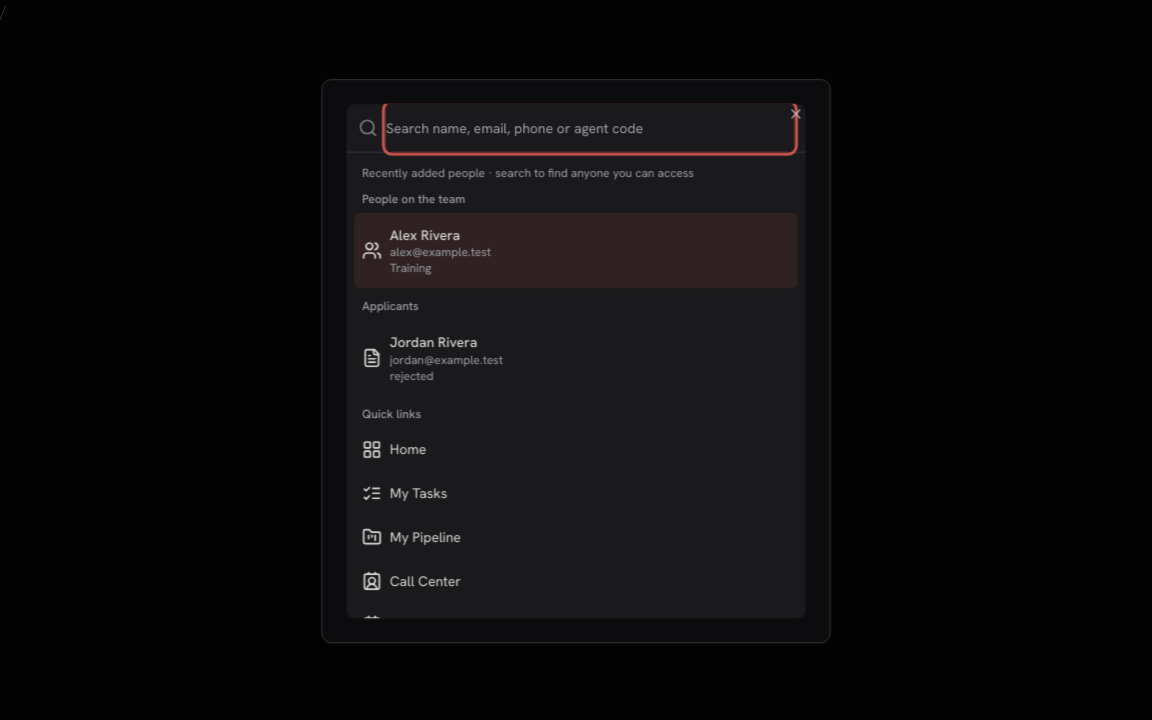
Shared people search › preserves applicant identity even for a closed application
Step 1. Click the text "Jordan Rivera" → (433, 340), box [389,332,477,350]
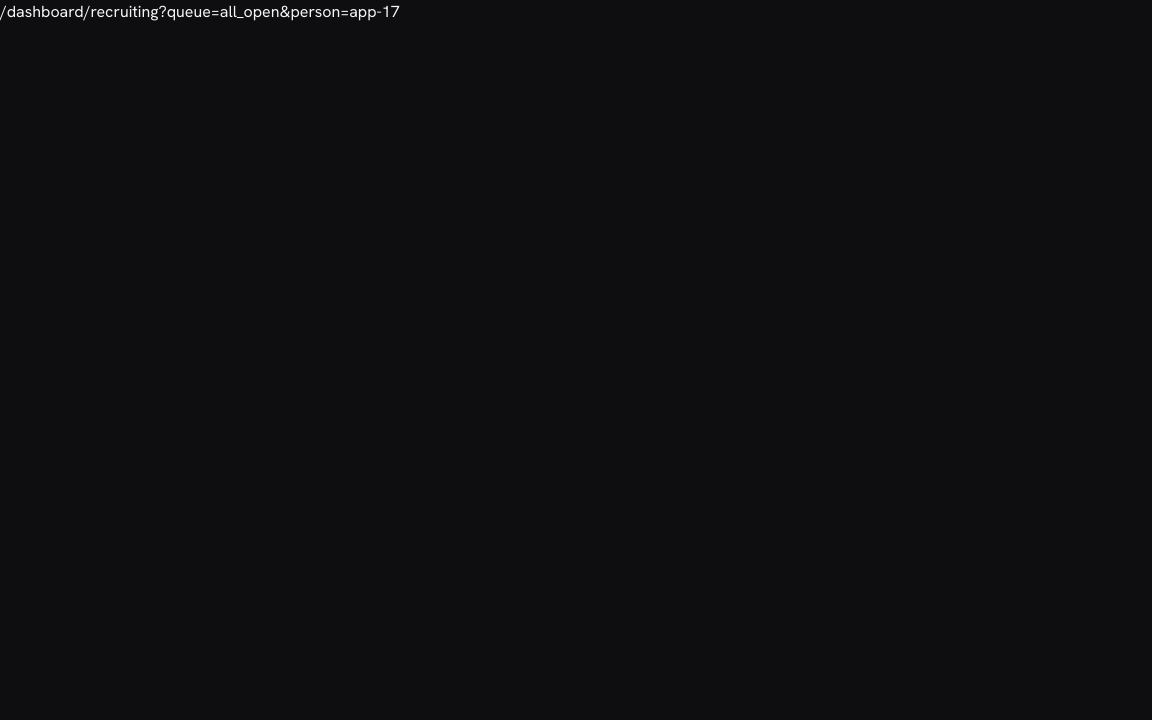
Result: the text with test id "location" shows "person=app-17" at [158,1,400,22]
